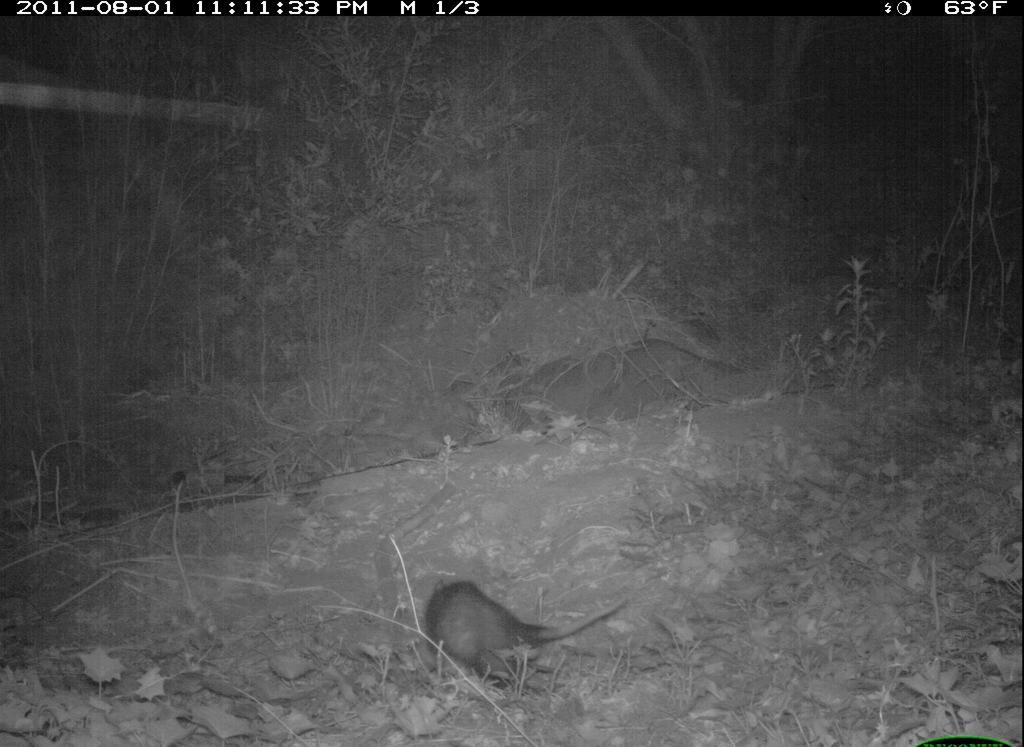opossum: (411, 580, 635, 688)
